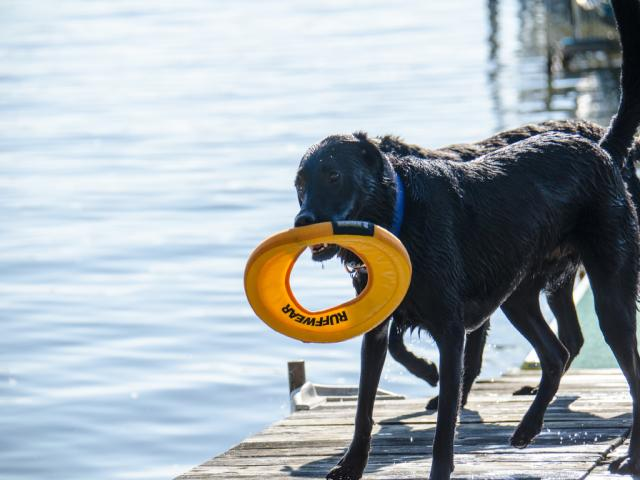Dog: (292, 0, 640, 480), (353, 127, 640, 410)
